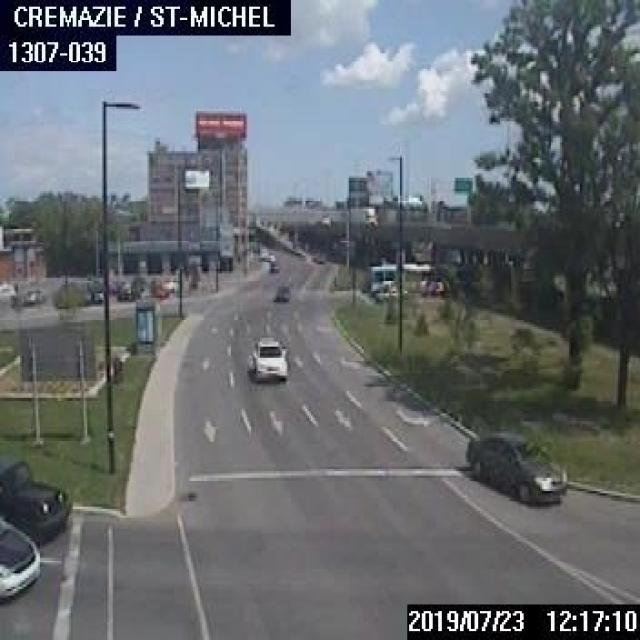bus: (367, 262, 444, 291)
vehicle: (463, 433, 568, 502), (0, 454, 71, 544), (0, 514, 38, 602), (246, 333, 286, 380), (370, 277, 406, 298), (360, 204, 377, 227), (21, 286, 43, 303), (272, 280, 288, 300), (0, 282, 15, 298), (266, 260, 278, 272)
